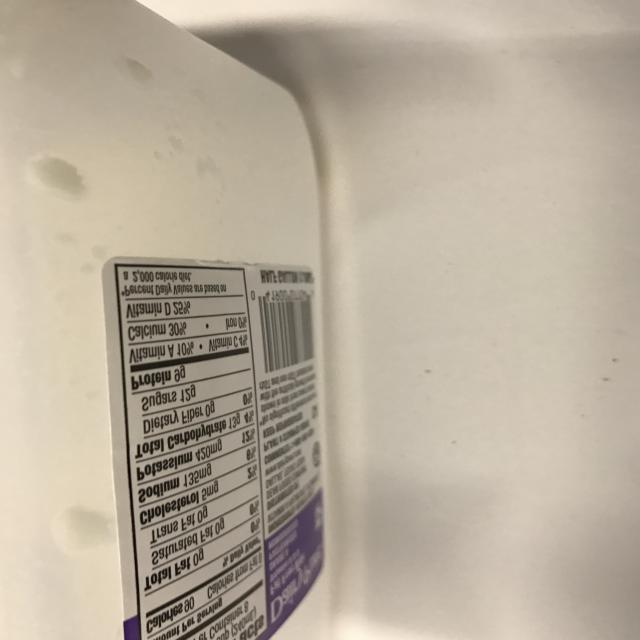plastic: (0, 0, 329, 640)
